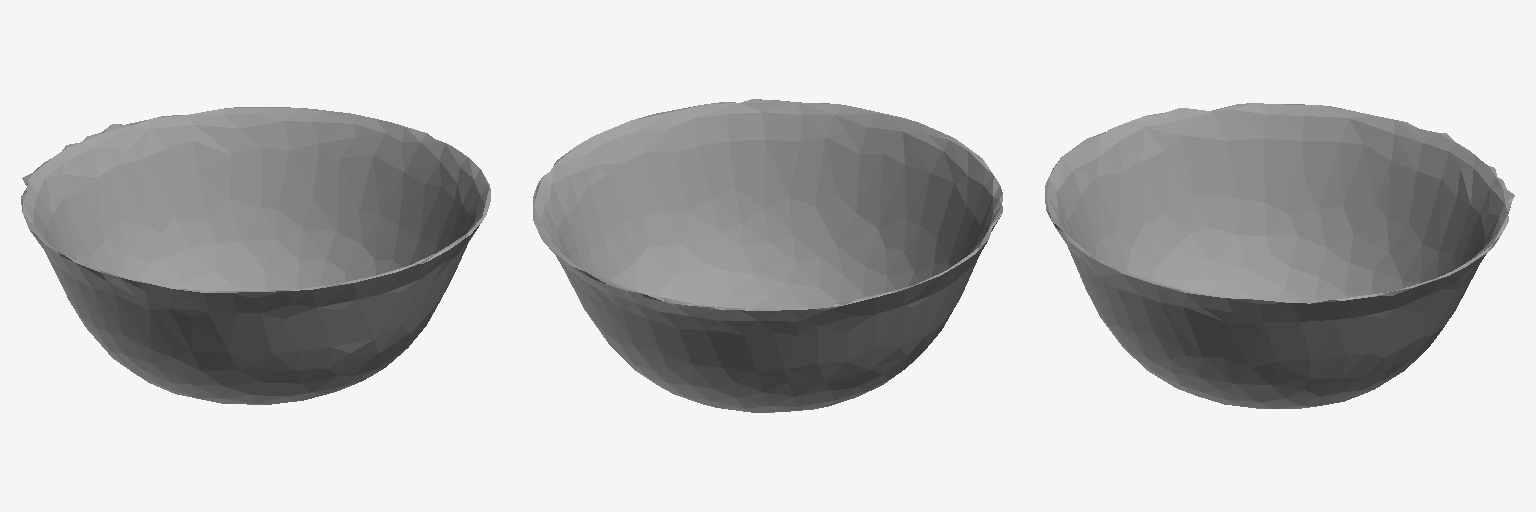
URDF robot description (small_bowl):
<?xml version="1.0"?>

<robot name="small_bowl">
  <link name="small_bowl_frame">
    <visual>
      <geometry>
        <mesh filename="package://kitchen_context/models/small_bowl/meshes/small_bowl.dae"/>
      </geometry>
    </visual>
  </link>
</robot>

--- Render facts (derived) ---
3 views of the same robot in one strip: view 1: azimuth 30°, elevation 25°; view 2: azimuth 150°, elevation 25°; view 3: azimuth 270°, elevation 25° (orthographic).
Model small_bowl with 1 links and 0 joints (none), rooted at small_bowl_frame, posed all joints at 0.
Links seen in each view (by area): view 1: small_bowl_frame; view 2: small_bowl_frame; view 3: small_bowl_frame.
Boxes of the visible links, box(x1,y1,x2,y2) form: small_bowl_frame: box(21, 107, 490, 404); small_bowl_frame: box(533, 99, 1002, 412); small_bowl_frame: box(1045, 103, 1514, 408).
Bounding box of the posed robot: 0.16 × 0.16 × 0.065 m (x, y, z).
1 mesh visuals loaded from 1 distinct referenced files (1 Collada DAE).